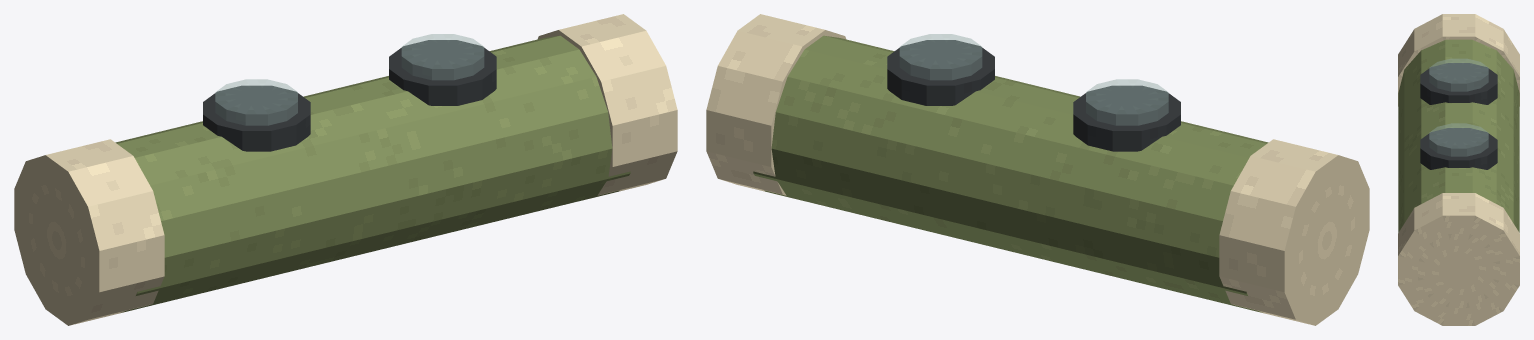
The model's file is whistle_multitool.glb.
3 views of the same model, side by side, from view 1: azimuth 30°, elevation 25°; view 2: azimuth 150°, elevation 25°; view 3: azimuth 270°, elevation 25° (orthographic). The views are drawn at different scales.
Visible parts, largest first — view 1: block_plastic tool body, block_end collar (×2), block_round instrument inset (×2), block_instrument lens (×2); view 2: block_plastic tool body, block_end collar (×2), block_round instrument inset (×2), block_instrument lens (×2); view 3: block_end collar (×2), block_plastic tool body, block_round instrument inset (×2), block_instrument lens (×2).
Boxes of the visible parts, x1,y1,x2,y2 form: block_plastic tool body: (115,35,630,312); block_end collar (×2): (14,14,677,325); block_round instrument inset (×2): (203,40,496,151); block_instrument lens (×2): (215,34,484,125); block_plastic tool body: (753,35,1268,312); block_end collar (×2): (706,14,1369,325); block_round instrument inset (×2): (887,40,1180,151); block_instrument lens (×2): (899,34,1168,125); block_end collar (×2): (1398,14,1519,325); block_plastic tool body: (1398,39,1519,232); block_round instrument inset (×2): (1420,63,1497,169); block_instrument lens (×2): (1429,58,1488,156).
Bounding box in the file's own units: 0.0558 × 0.0159 × 0.0142.
2 materials, 2 textured.
